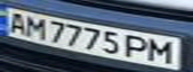5: (100, 28, 124, 56)
7: (78, 25, 103, 53), (42, 18, 66, 44), (63, 21, 84, 47)
A: (3, 10, 30, 35)
M: (145, 37, 181, 64), (21, 15, 48, 39)
P: (124, 33, 151, 61)
